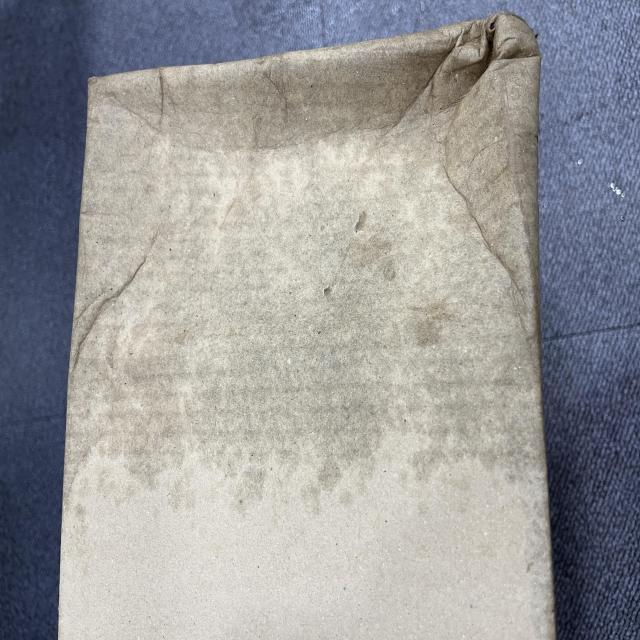wet: (114, 97, 445, 640)
